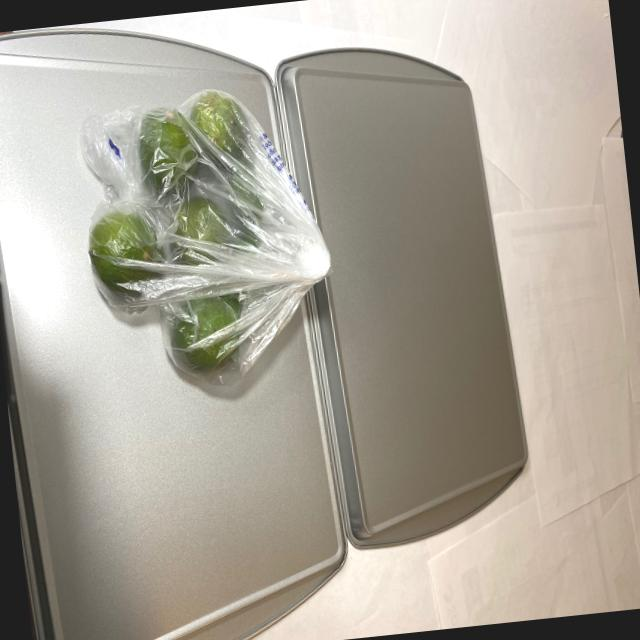lemon: (77, 82, 307, 388)
